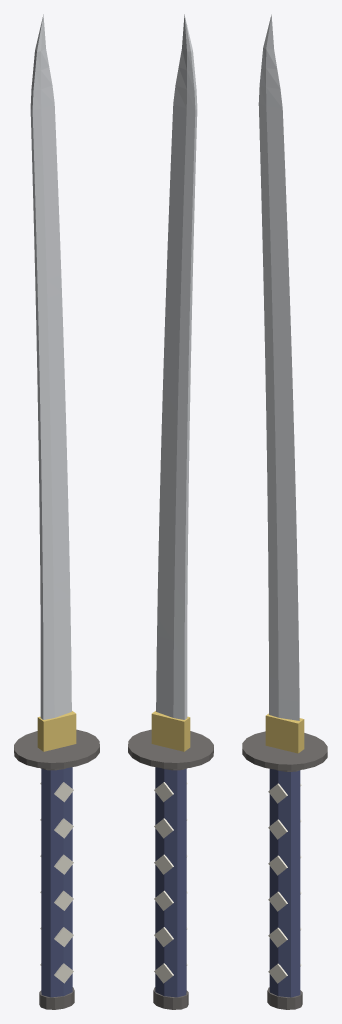
Rendered from katana.glb.
3 renders of one model, left to right at view 1: azimuth 30°, elevation 25°; view 2: azimuth 150°, elevation 25°; view 3: azimuth 330°, elevation 25°, orthographic.
Visible parts, largest first — view 1: blade, tsuka, tsuba, tsuka_diamonds, habaki, kashira; view 2: blade, tsuka, tsuba, tsuka_diamonds, habaki, kashira; view 3: blade, tsuka, tsuba, tsuka_diamonds, habaki, kashira.
Boxes of the visible parts, x1=… form: blade: x1=30, y1=14, x2=71, y2=719; tsuka: x1=41, y1=767, x2=72, y2=997; tsuba: x1=14, y1=729, x2=99, y2=768; tsuka_diamonds: x1=40, y1=782, x2=73, y2=983; habaki: x1=37, y1=711, x2=76, y2=751; kashira: x1=39, y1=987, x2=74, y2=1009; blade: x1=156, y1=14, x2=197, y2=719; tsuka: x1=155, y1=767, x2=186, y2=997; tsuba: x1=128, y1=729, x2=213, y2=768; tsuka_diamonds: x1=154, y1=782, x2=187, y2=983; habaki: x1=151, y1=711, x2=190, y2=751; kashira: x1=153, y1=987, x2=188, y2=1009; blade: x1=258, y1=14, x2=299, y2=720; tsuka: x1=269, y1=769, x2=300, y2=997; tsuba: x1=242, y1=731, x2=327, y2=770; tsuka_diamonds: x1=268, y1=783, x2=301, y2=983; habaki: x1=265, y1=713, x2=304, y2=753; kashira: x1=267, y1=987, x2=302, y2=1009.
Bounding box in the file's own units: 0.08 × 0.986 × 0.072.
